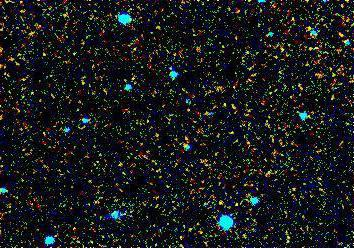star: (206, 187, 236, 217)
